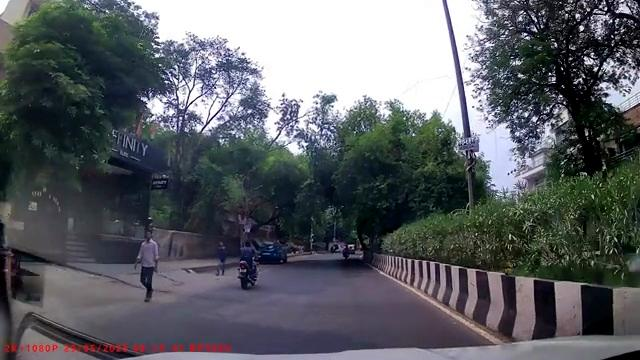motorcycle_without_helmet: (237, 238, 259, 291)
